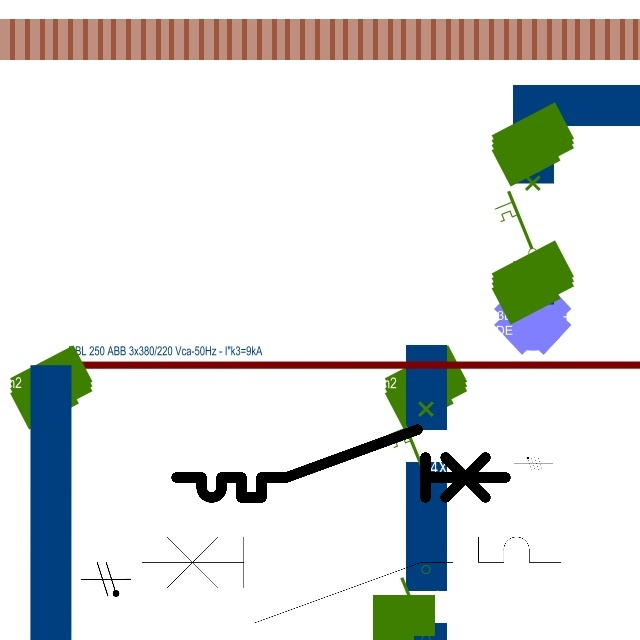interruptor_termomagnetico: (130, 526, 571, 634), (168, 421, 514, 506)
